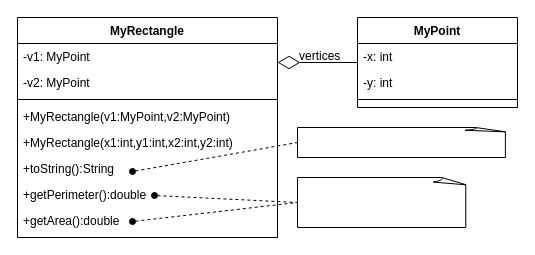
The diagram is 535 pixels wide and 255 high, and some of its shapes have lost their labels. Here are the shapes that lost their labels. From the top down, the centre of each, then its label:
the point at 402,142: "MyRectangle[v1=(x1,y1),v2=(x2,y2)]"
the point at 382,202: Use MyPoint's distance() to compute the length of the edges
